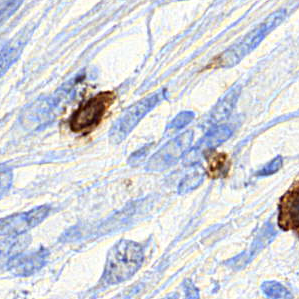Lymphocyte: (70, 90, 115, 131)
